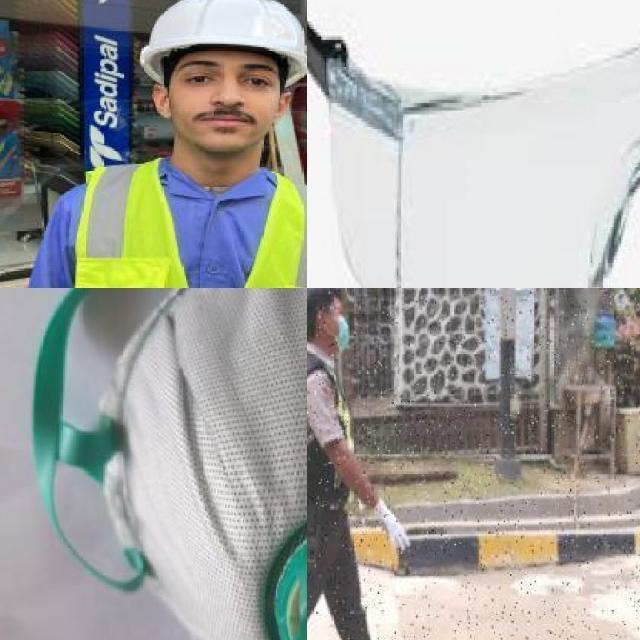apron: (368, 492, 412, 557)
